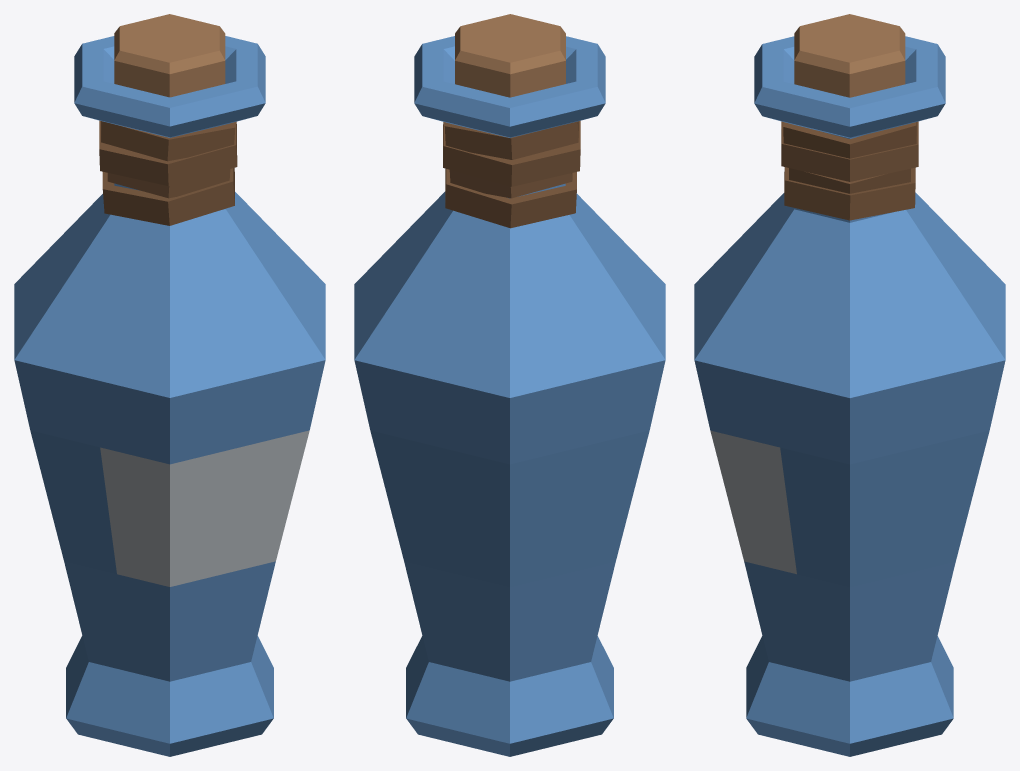
File: Blue_Potion_8(String+Label).fbx
3 views of the same model, side by side, from view 1: azimuth 30°, elevation 25°; view 2: azimuth 150°, elevation 25°; view 3: azimuth 270°, elevation 25° (orthographic).
Parts seen in each view (by area): view 1: Blue_Potion_8(String+Label); view 2: Blue_Potion_8(String+Label); view 3: Blue_Potion_8(String+Label).
Part boxes in pixels (x1,y1,x2,y2): Blue_Potion_8(String+Label): [14, 14, 325, 756]; Blue_Potion_8(String+Label): [354, 14, 665, 756]; Blue_Potion_8(String+Label): [694, 14, 1005, 756].
Bounding box in the file's own units: 16.45 × 34.03 × 14.25.
